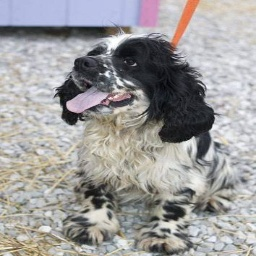dog: (55, 36, 245, 250)
